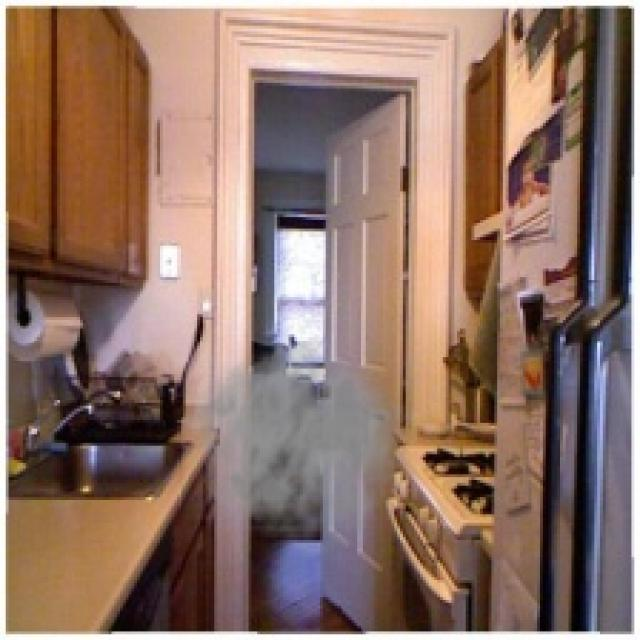smoke: (189, 337, 417, 560)
